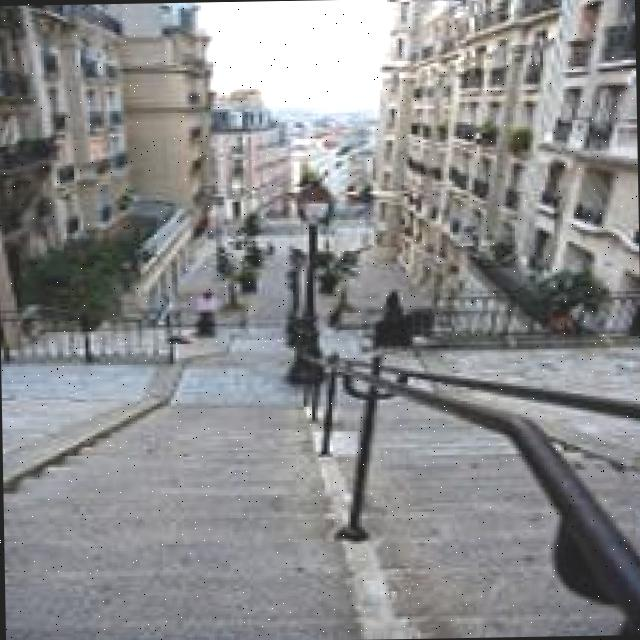stairs: (0, 332, 633, 640)
